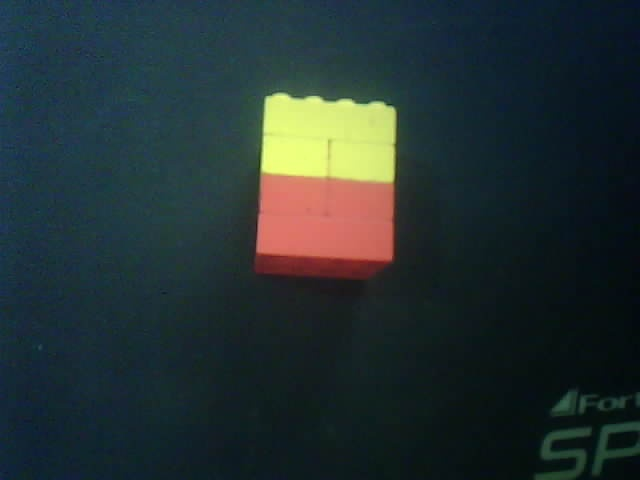lego: (253, 91, 398, 283)
